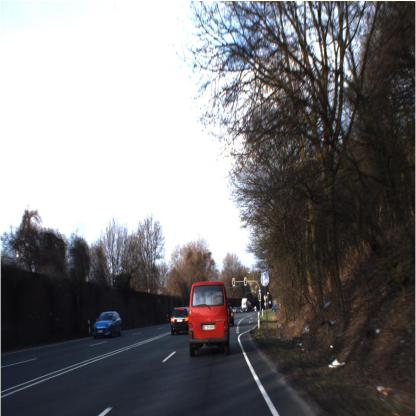mandatory: (259, 270, 272, 288)
